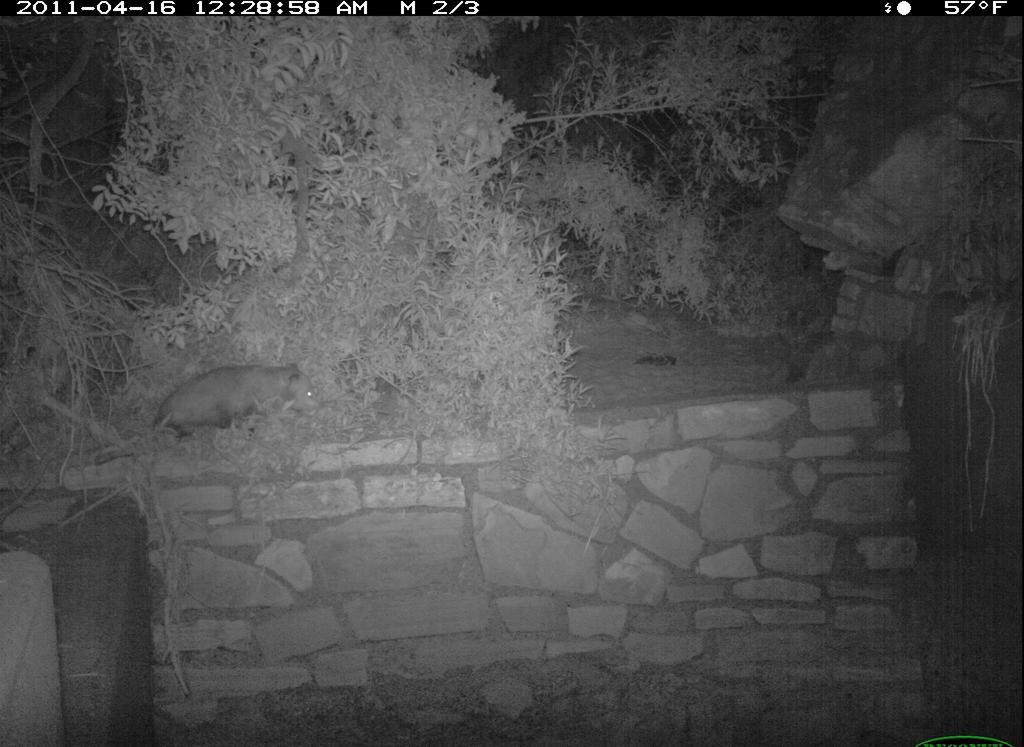opossum: (111, 351, 335, 477)
